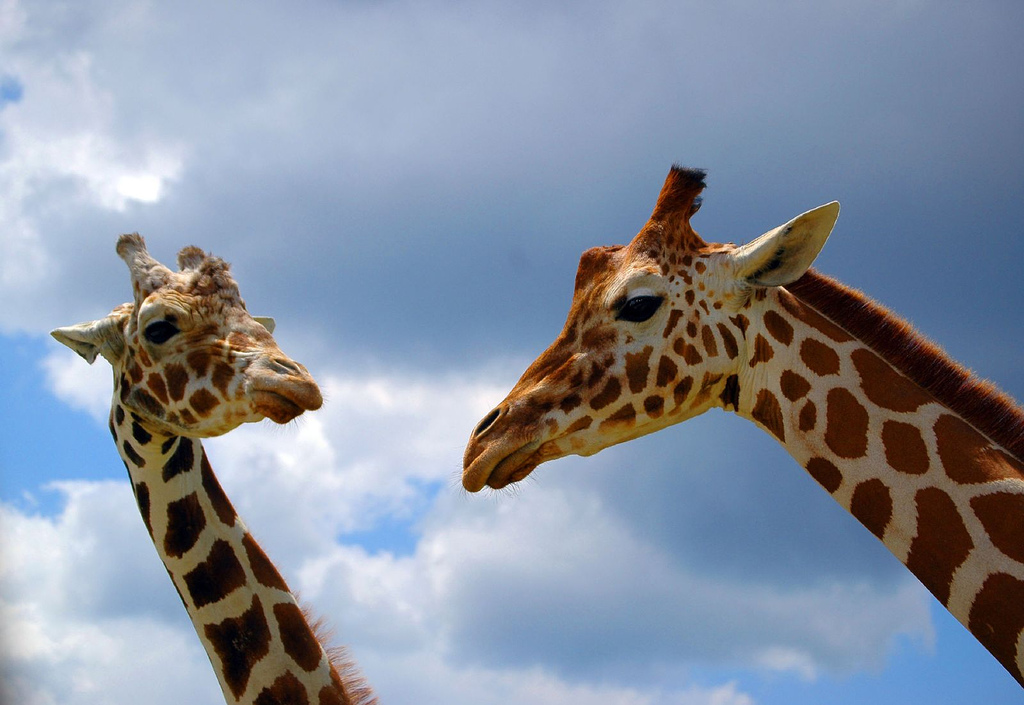giraffe: (406, 129, 1000, 657), (50, 238, 381, 664)
